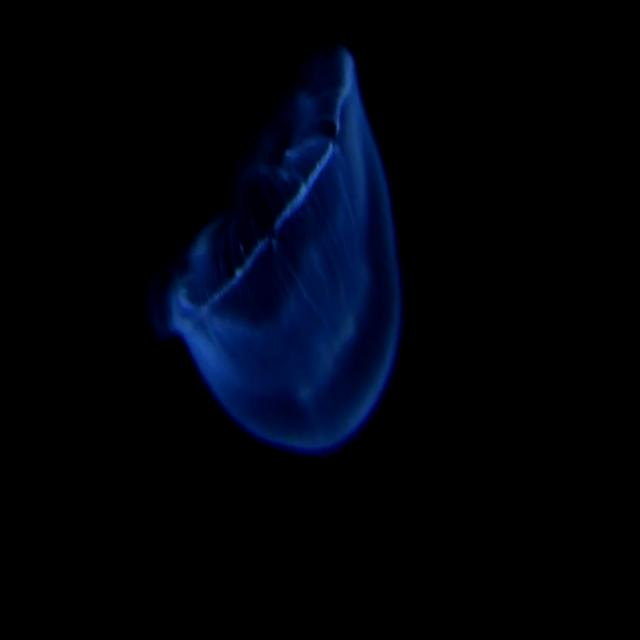Moon-jellyfish: (131, 34, 454, 508)
